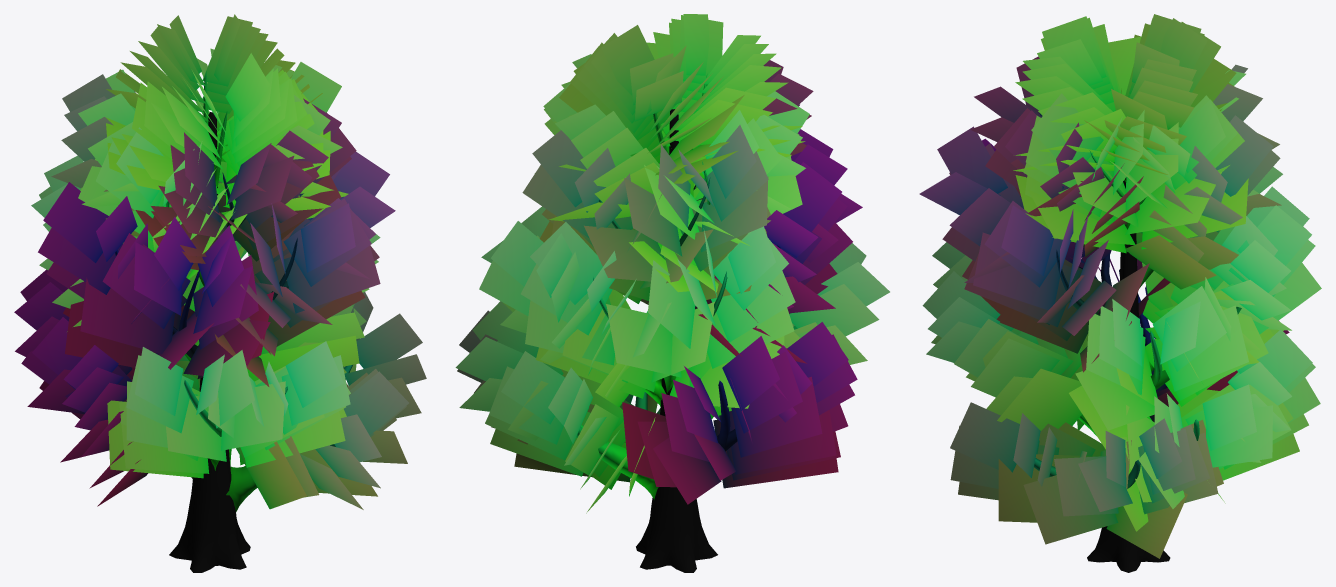
The model's file is SM_Tree.fbx.
The picture shows the model from 3 angles, left to right: view 1: azimuth 30°, elevation 25°; view 2: azimuth 150°, elevation 25°; view 3: azimuth 270°, elevation 25°; orthographic projection.
Visible parts, largest first — view 1: _1, _0; view 2: _1, _0; view 3: _1, _0.
Boxes of the visible parts, x1,y1,x2,y2 form: _1: (14, 14, 426, 509); _0: (115, 71, 352, 572); _1: (455, 14, 889, 513); _0: (576, 74, 797, 572); _1: (919, 14, 1321, 558); _0: (1034, 113, 1241, 572).
Size of the model in its own units: 433 by 591 by 409.
